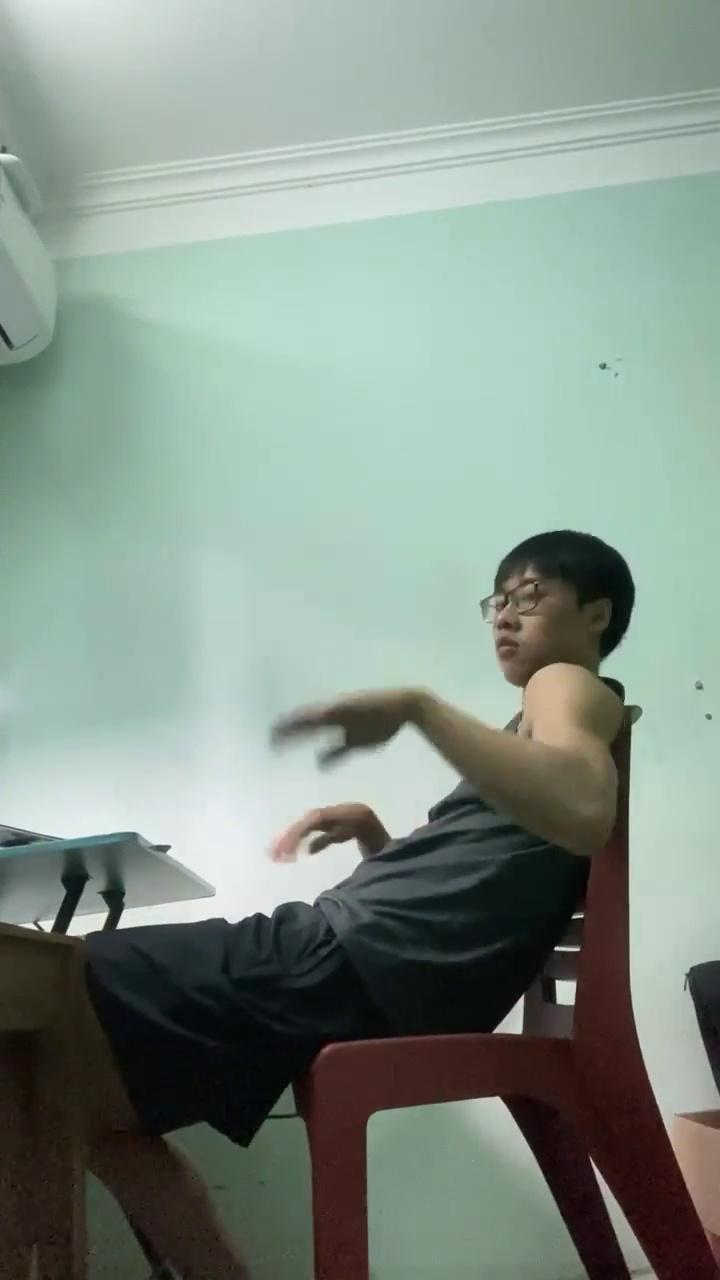BadPosture: (3, 534, 633, 1263)
